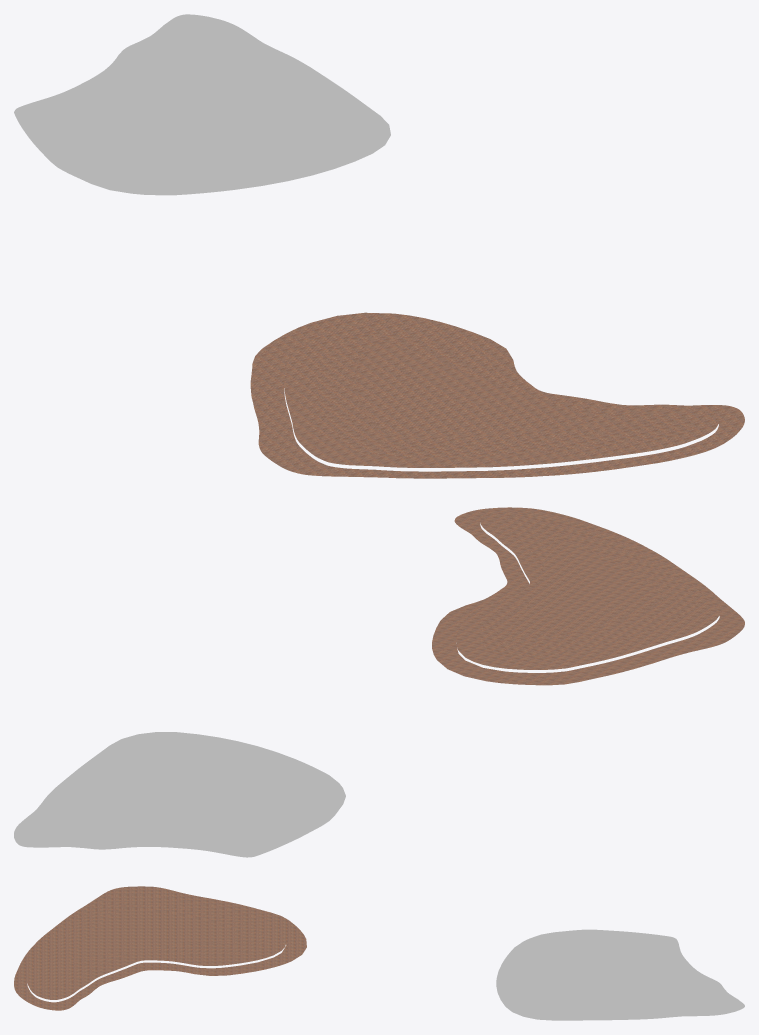
Rendered from terraces.obj.
The picture shows the model from 3 angles, top to bottom: view 1: azimuth 30°, elevation 25°; view 2: azimuth 150°, elevation 25°; view 3: azimuth 270°, elevation 25°; orthographic projection. The views are drawn at different scales.
Size of the model in its own units: 130 by 4 by 299.
